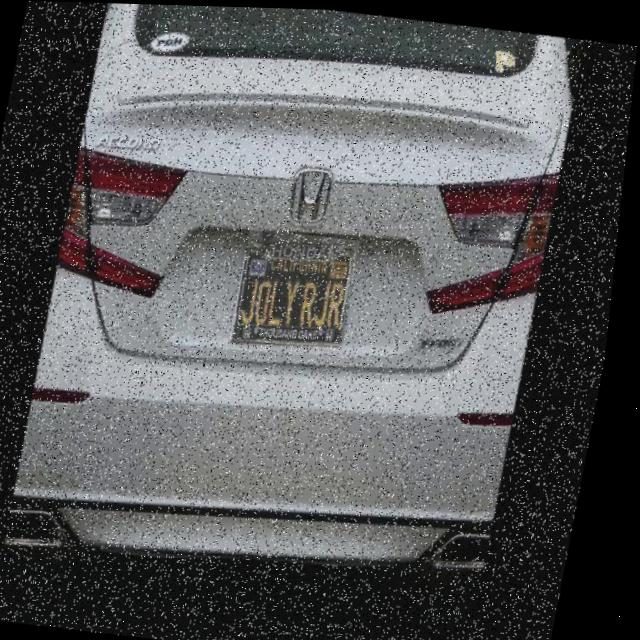LicensePlate: (235, 225, 366, 349)
